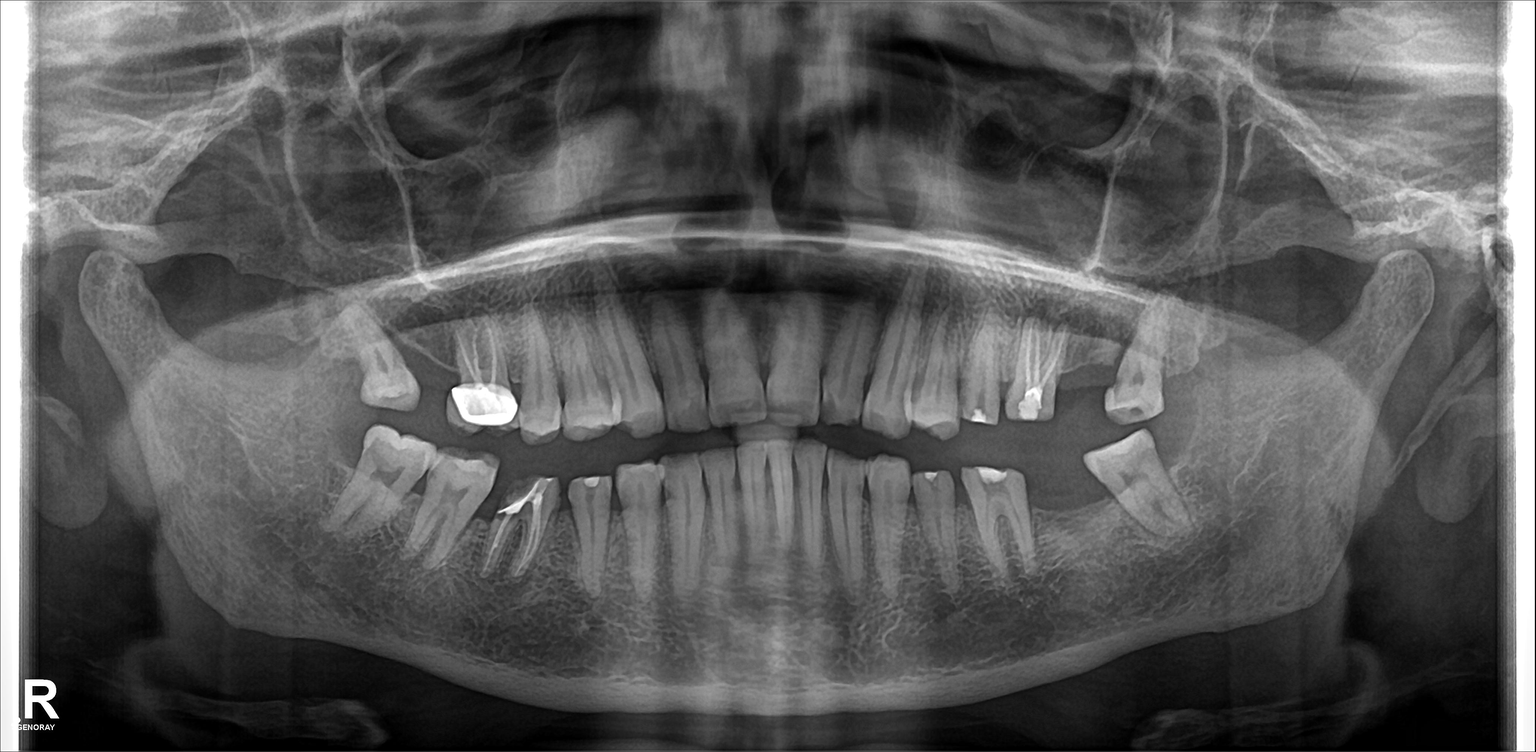Dental Caries: (495, 469, 542, 505)
Endodontically Treated Tooth: (462, 329, 515, 426), (1013, 329, 1058, 420), (497, 486, 544, 573)
Missing Tooth: (1035, 463, 1085, 556), (1170, 313, 1214, 404), (1067, 324, 1104, 423), (417, 333, 453, 411)
